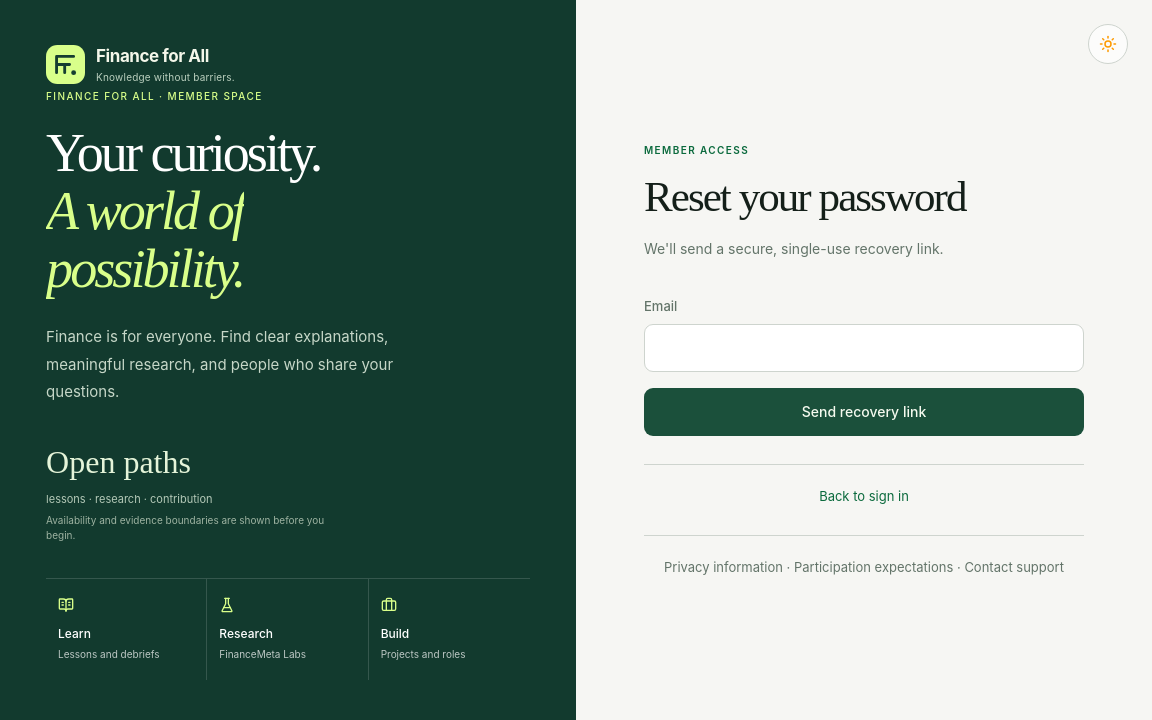
password recovery › returns an account-neutral success message
The width and height of the screenshot is (1152, 720).
In the field labelled "Email": (864, 348) [644, 324, 1084, 372], type " member@example.com "
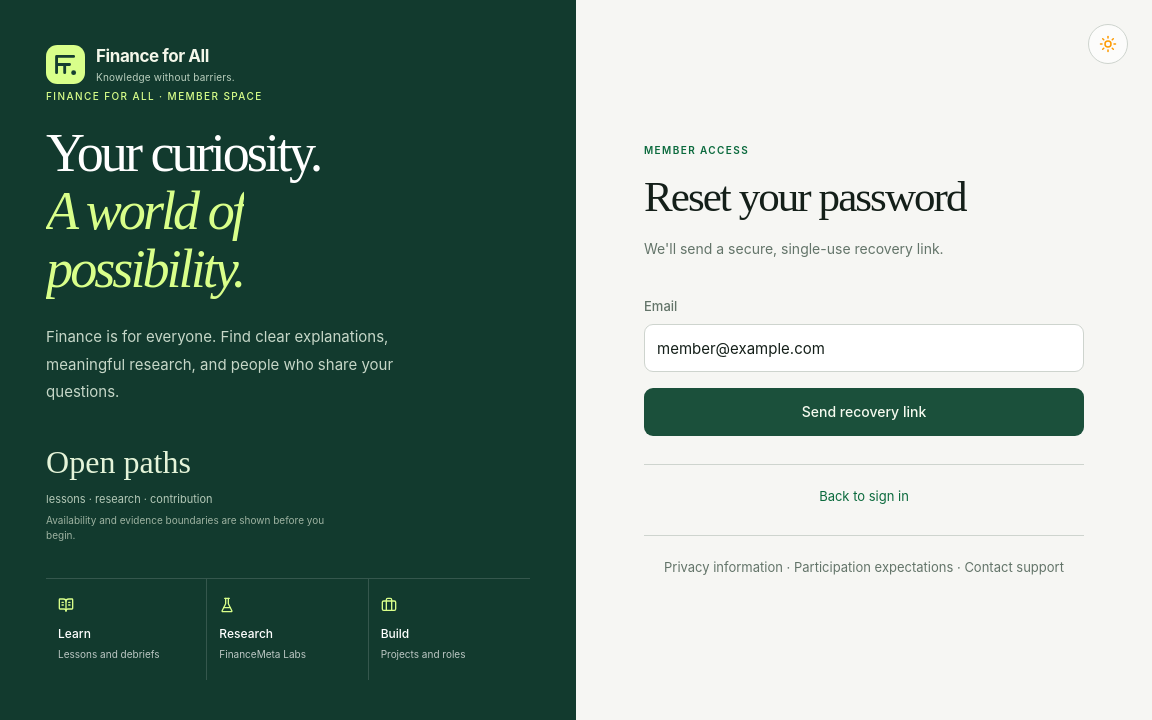
Click the button "Send recovery link": (864, 412) [644, 388, 1084, 436]
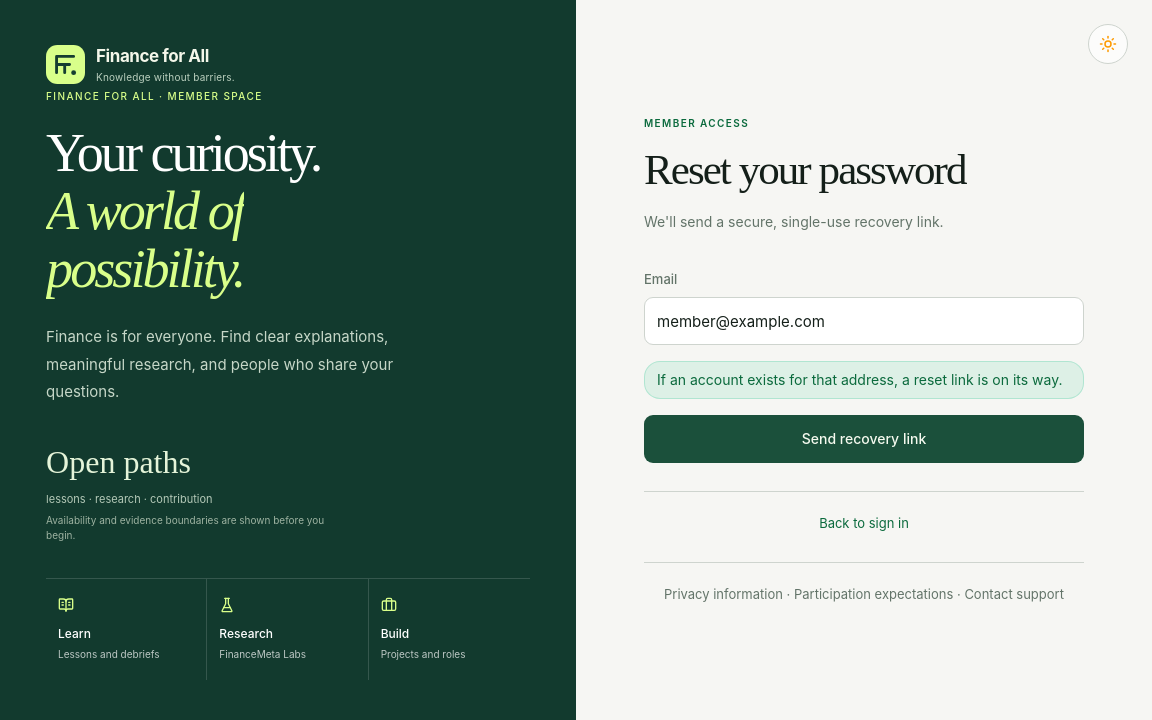
Check: the message shows "If an account exists", box [657, 371, 1062, 388]
